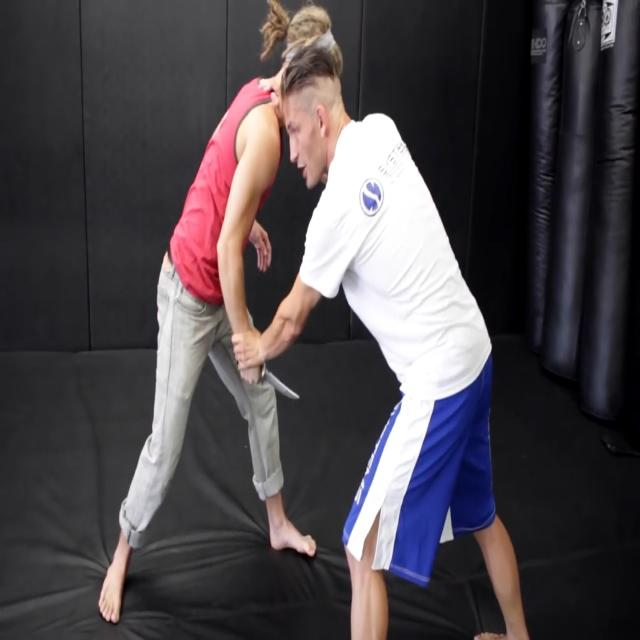knife: (263, 365, 304, 407)
